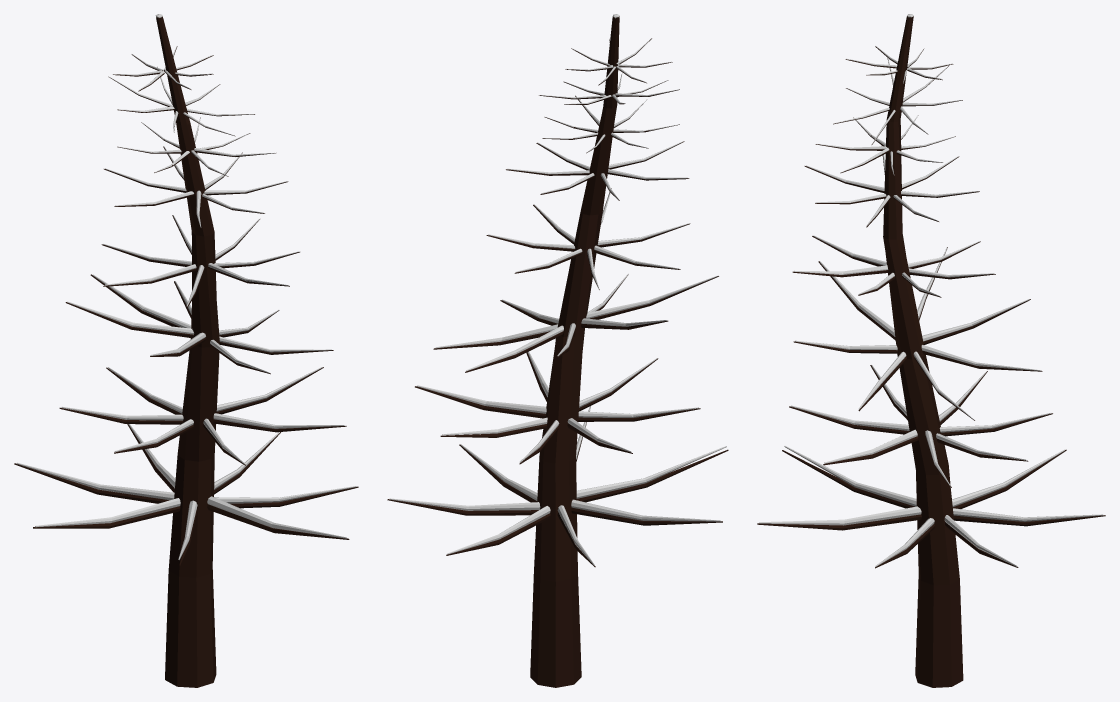
The model's file is Dead tree004.fbx.
The picture shows the model from 3 angles, left to right: view 1: azimuth 30°, elevation 25°; view 2: azimuth 150°, elevation 25°; view 3: azimuth 270°, elevation 25°; orthographic projection. The views are drawn at different scales.
Parts seen in each view (by area): view 1: Cylinder.003; view 2: Cylinder.003; view 3: Cylinder.003.
Boxes of the visible parts, box(x1,y1,x2,y2) form: Cylinder.003: box(14, 14, 358, 687); Cylinder.003: box(387, 14, 728, 687); Cylinder.003: box(757, 14, 1105, 687).
Bounding box in the file's own units: 1320 × 2838 × 1395.
